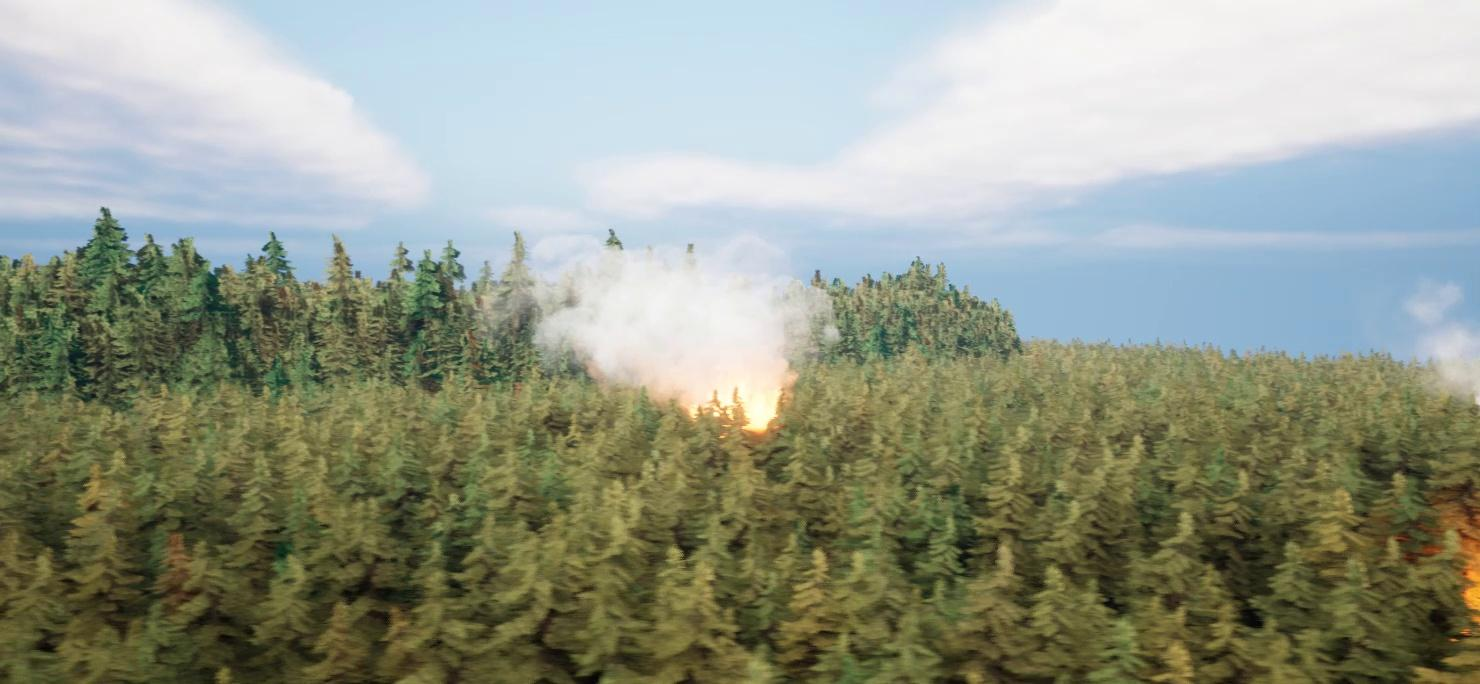fire: (713, 378, 793, 437)
smoke: (511, 227, 849, 429), (1411, 270, 1479, 399)
